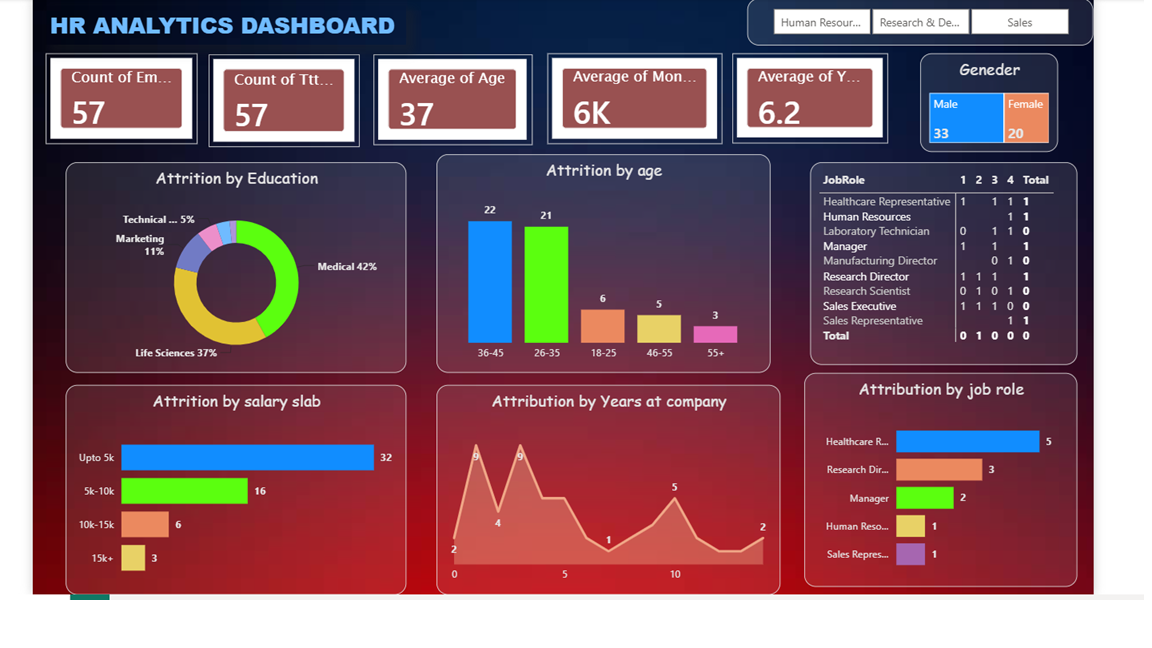

The dashboard page shown, as its layout file describes it:
{"tool":"powerbi","page":{"name":"Page 1","canvas":[1280,720],"ordinal":0},"visuals":[{"type":"cardVisual","fields":{"Data":["CountNonNull(HR_Analytics.EmpID)"]},"box":[15.7,66.4,183.4,109.8],"z":0},{"type":"cardVisual","fields":{"Data":["CountNonNull(HR_Analytics.TttritionCount)"]},"box":[212.3,67.6,182.2,112.2],"z":1000},{"type":"cardVisual","fields":{"Data":["Avg(HR_Analytics.Age)"]},"box":[411.4,67.6,191.8,109.8],"z":2000},{"type":"cardVisual","fields":{"Data":["Avg(HR_Analytics.MonthlyIncome)"]},"box":[621.3,66.4,211.1,109.8],"z":3000},{"type":"cardVisual","fields":{"Data":["Avg(HR_Analytics.YearsAtCompany)"]},"box":[844.5,66.4,188.2,108.6],"z":4000},{"type":"donutChart","title":"Attrition by Education","fields":{"Category":["HR_Analytics.EducationField"],"Y":["CountNonNull(HR_Analytics.TttritionCount)"]},"box":[39.8,197.9,411.4,254.6],"z":5000},{"type":"columnChart","title":"Attrition by age","fields":{"Category":["HR_Analytics.AgeGroup"],"Y":["CountNonNull(HR_Analytics.TttritionCount)"]},"box":[487.4,188.2,403,264.2],"z":6000},{"type":"pivotTable","fields":{"Rows":["HR_Analytics.JobRole"],"Columns":["HR_Analytics.JobSatisfaction"],"Values":["Min(HR_Analytics.TttritionCount)"]},"box":[938.6,197.9,322.1,244.9],"z":7000},{"type":"barChart","title":"Attrition by salary slab","fields":{"Category":["HR_Analytics.SalarySlab"],"Y":["CountNonNull(HR_Analytics.TttritionCount)"]},"box":[39.8,466.9,411.4,253.4],"z":8000},{"type":"barChart","title":"Attribution by job role","fields":{"Y":["CountNonNull(HR_Analytics.TttritionCount)"],"Category":["HR_Analytics.JobRole"]},"box":[931.4,452.4,329.4,258.2],"z":9000},{"type":"areaChart","title":"Attrition by Years at company","fields":{"Category":["HR_Analytics.YearsAtCompany"],"Y":["CountNonNull(HR_Analytics.TttritionCount)"]},"box":[487.4,466.9,415,253.4],"z":10000},{"type":"treemap","title":"Gender","fields":{"Group":["HR_Analytics.Gender"],"Values":["CountNonNull(HR_Analytics.TttritionCount)"]},"box":[1071.3,66.4,166.5,119.4],"z":11000},{"type":"slicer","fields":{"Values":["HR_Analytics.Department"]},"box":[862.6,0,417.4,56.7],"z":12000},{"type":"textbox","box":[15.7,8.4,435.5,48.3],"z":13000}]}

Visuals, with their boxes in screenshot pixels (x1, y1, x2, y2), scaled from the page's 1280x720 canvas onto the 1152x648 screenshot:
cardVisual - CountNonNull(HR_Analytics.EmpID): <region>14, 60, 179, 159</region>
cardVisual - CountNonNull(HR_Analytics.TttritionCount): <region>191, 61, 355, 162</region>
cardVisual - Avg(HR_Analytics.Age): <region>370, 61, 543, 160</region>
cardVisual - Avg(HR_Analytics.MonthlyIncome): <region>559, 60, 749, 159</region>
cardVisual - Avg(HR_Analytics.YearsAtCompany): <region>760, 60, 929, 158</region>
"Attrition by Education" donutChart: <region>36, 178, 406, 407</region>
"Attrition by age" columnChart: <region>439, 169, 801, 407</region>
pivotTable - HR_Analytics.JobRole x HR_Analytics.JobSatisfaction: <region>845, 178, 1135, 399</region>
"Attrition by salary slab" barChart: <region>36, 420, 406, 647</region>
"Attribution by job role" barChart: <region>838, 407, 1135, 640</region>
"Attrition by Years at company" areaChart: <region>439, 420, 812, 647</region>
"Gender" treemap: <region>964, 60, 1114, 167</region>
slicer - HR_Analytics.Department: <region>776, 0, 1151, 51</region>
textbox: <region>14, 8, 406, 51</region>
